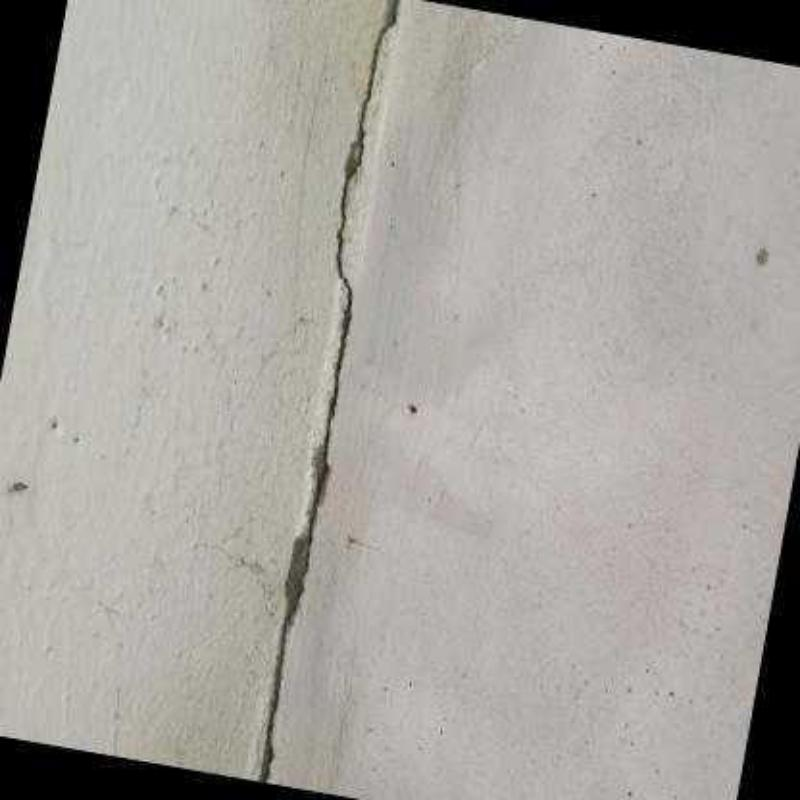pothole: (258, 1, 398, 783)
